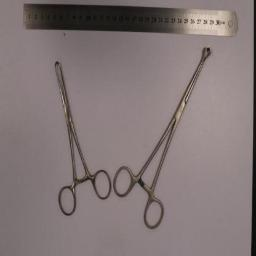Allis Tissue Forceps: (54, 60, 112, 216)
